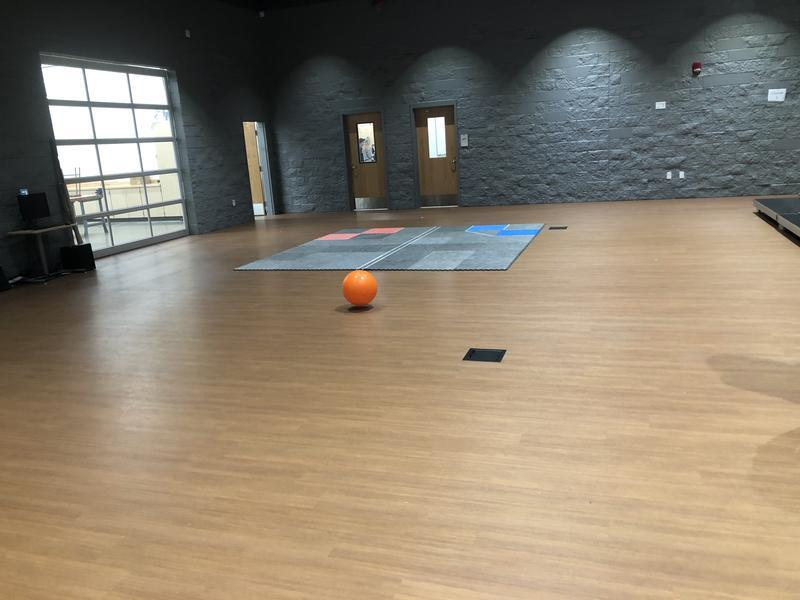ball: (342, 271, 378, 308)
